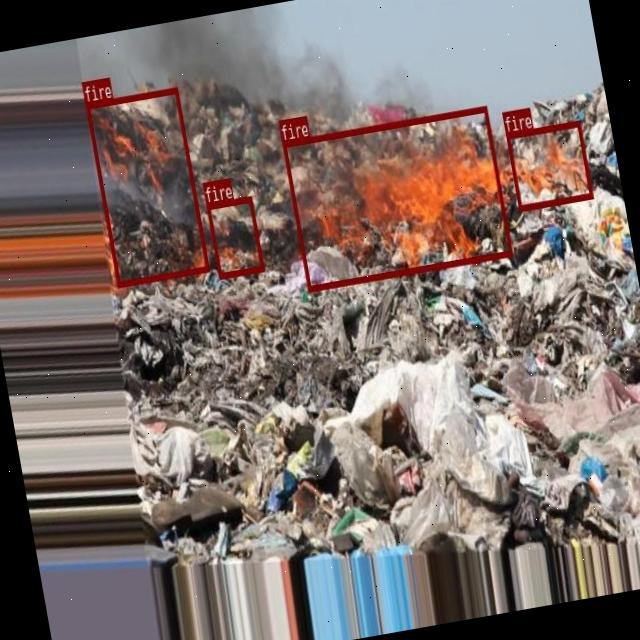fire: (282, 104, 512, 291), (84, 86, 208, 286), (505, 120, 593, 211), (205, 195, 263, 277)
